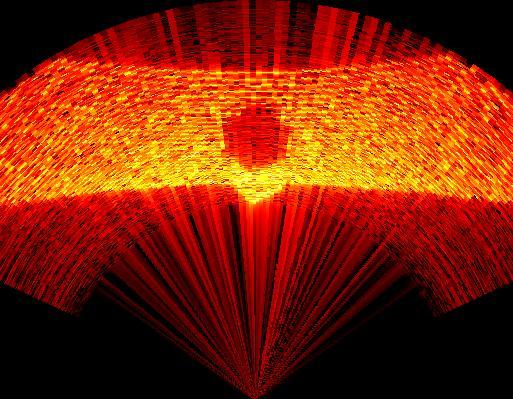box_crate: (220, 106, 288, 170)
